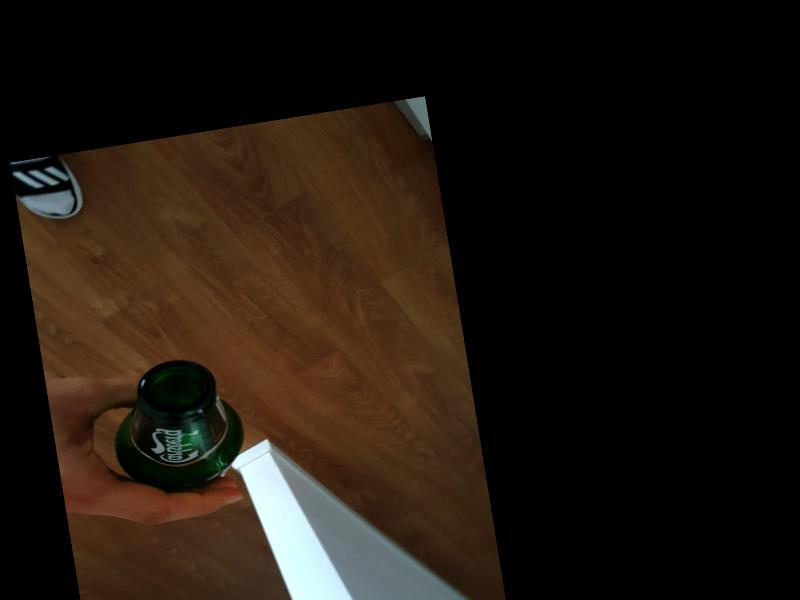Beer: (100, 351, 251, 500)
